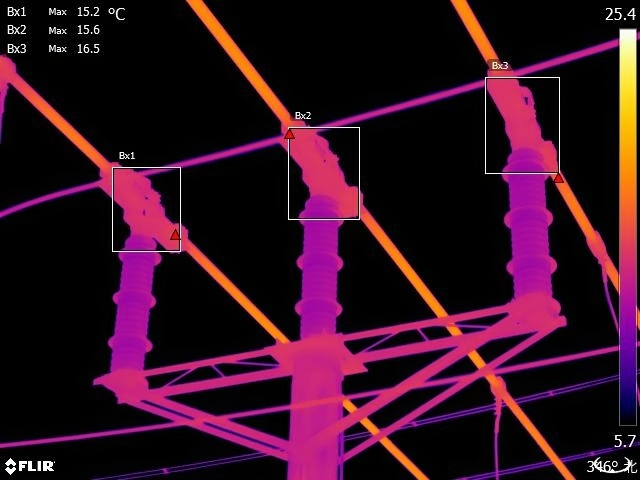clamp: (579, 219, 612, 279), (1, 40, 23, 105), (486, 372, 511, 408)
post insulator: (287, 191, 350, 339), (499, 145, 554, 305), (105, 232, 168, 369)
